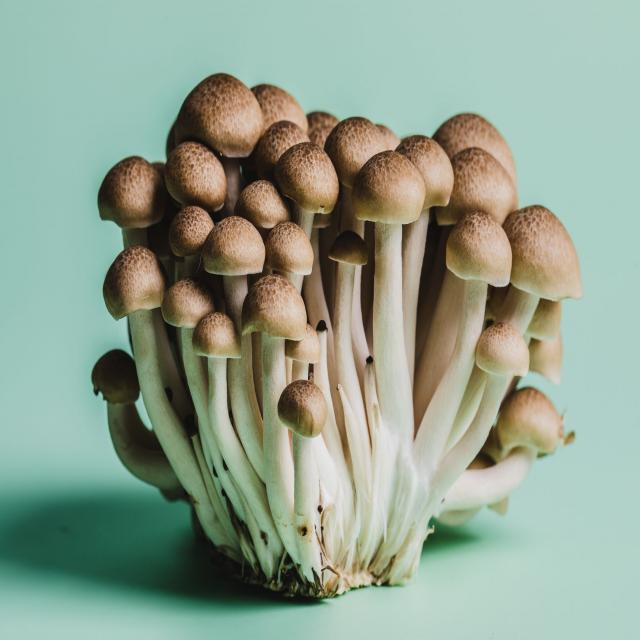Mushroom: (72, 56, 577, 621)
